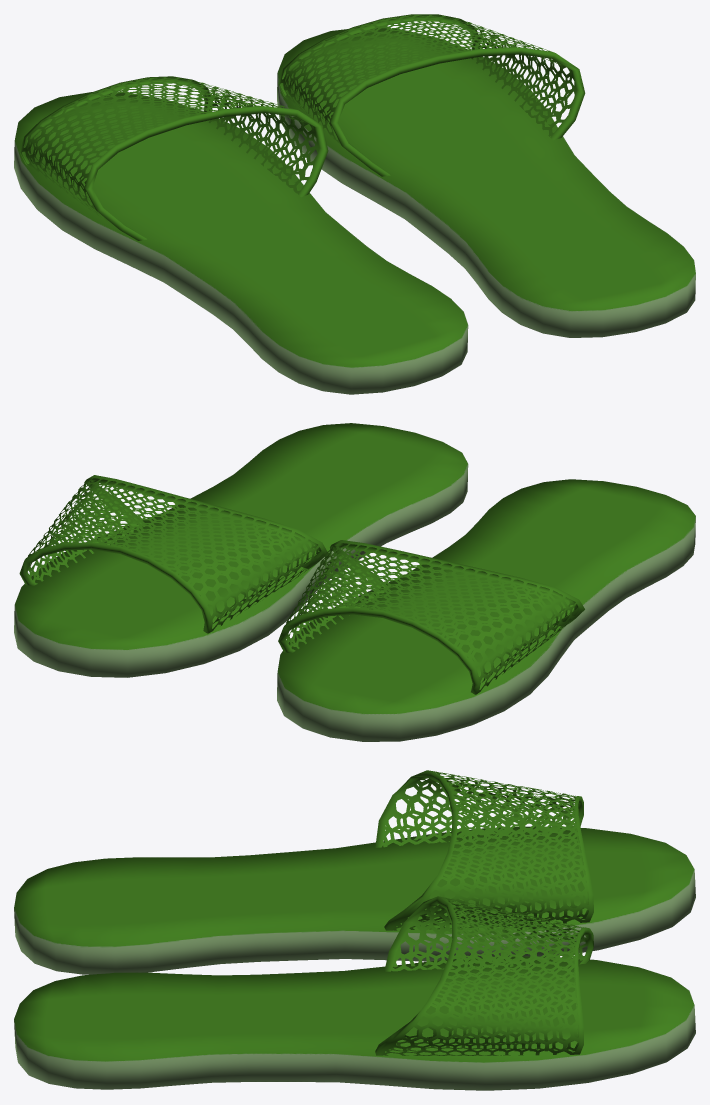
File: WC_Shoe.fbx
3 views of the same model, one above another, from view 1: azimuth 30°, elevation 25°; view 2: azimuth 150°, elevation 25°; view 3: azimuth 270°, elevation 25° (orthographic). The views are drawn at different scales.
Visible parts, largest first — view 1: WC_Shoe.001; view 2: WC_Shoe.001; view 3: WC_Shoe.001.
Boxes of the visible parts, bbox=[...] form: WC_Shoe.001: bbox=[14, 14, 695, 394]; WC_Shoe.001: bbox=[14, 423, 695, 741]; WC_Shoe.001: bbox=[14, 770, 695, 1090].
Bounding box in the file's own units: 17.67 × 3.93 × 20.6.
Materials: 1 (1 with a texture image).
